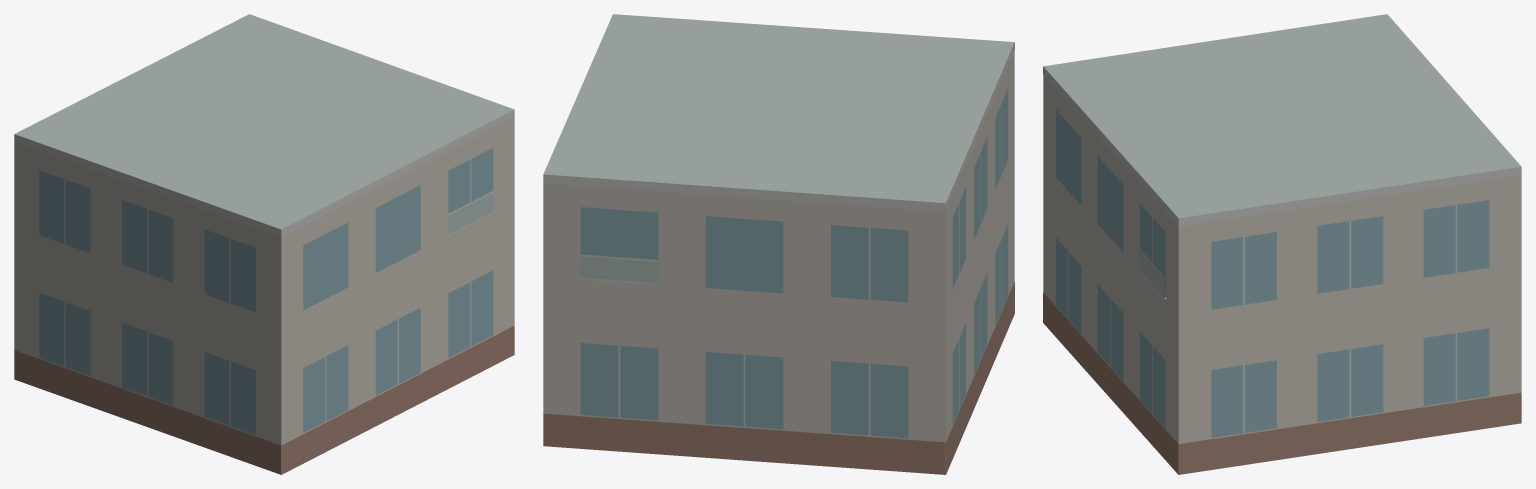
The model's file is survey-upis-32977388.glb.
3 views of the same model, side by side, from view 1: azimuth 30°, elevation 25°; view 2: azimuth 150°, elevation 25°; view 3: azimuth 270°, elevation 25° (orthographic). The views are drawn at different scales.
Parts seen in each view (by area): view 1: survey-upis-32977388.tmp; view 2: survey-upis-32977388.tmp; view 3: survey-upis-32977388.tmp.
Part boxes in pixels (bbox=[...]): survey-upis-32977388.tmp: bbox=[14, 14, 514, 474]; survey-upis-32977388.tmp: bbox=[543, 14, 1014, 474]; survey-upis-32977388.tmp: bbox=[1043, 14, 1521, 474].
Bounding box in the file's own units: 12.99 × 7.6 × 12.86.
